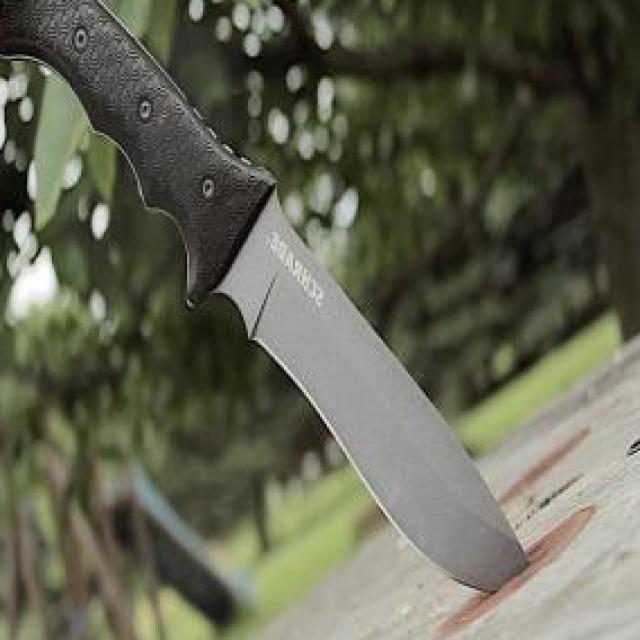knife: (174, 133, 534, 595)
